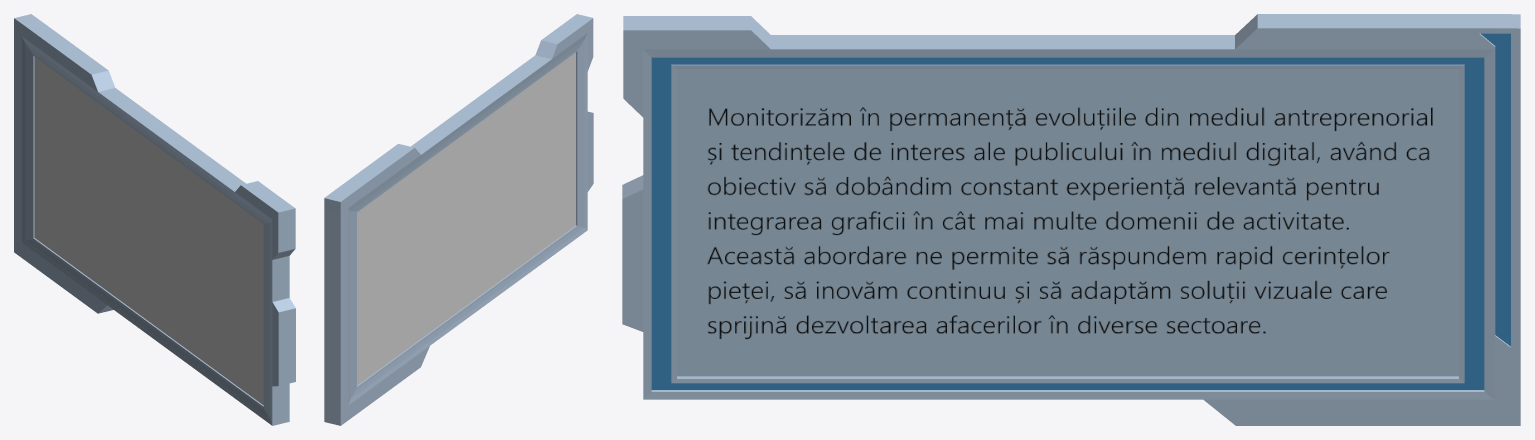
File: Disketa-mica-1.glb
3 renders of one model, left to right at view 1: azimuth 30°, elevation 25°; view 2: azimuth 150°, elevation 25°; view 3: azimuth 270°, elevation 25°, orthographic. The views are drawn at different scales.
Parts seen in each view (by area): view 1: spate, rama exterioara; view 2: spate, rama exterioara; view 3: view, rama exterioara, rama interioara, rama dreapta.
Boxes of the visible parts, box(x1,y1,x2,y2) form: spate: box(34, 57, 263, 404); rama exterioara: box(14, 14, 295, 425); spate: box(357, 52, 575, 385); rama exterioara: box(324, 14, 593, 425); view: box(677, 69, 1458, 376); rama exterioara: box(622, 14, 1520, 425); rama interioara: box(651, 57, 1484, 389); rama dreapta: box(1481, 33, 1510, 346).
Size of the model in its own units: 0.1833 by 2.38 by 4.87.
4 materials, 1 textured.
